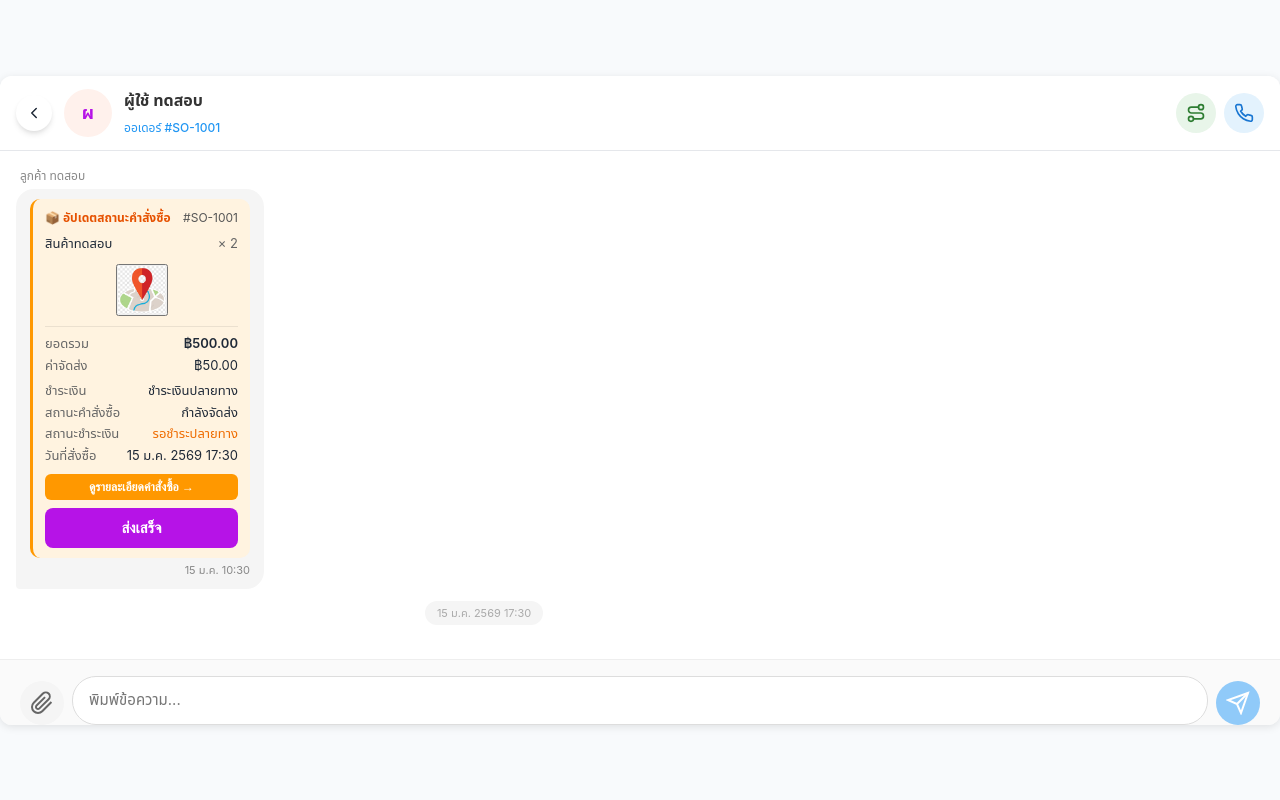
Test: ChatRoom - ส่งเสร็จออเดอร์ (สถานะชำระเงิน COD) › COD ส่งเสร็จสำเร็จ การ์ดทุกใบของ Order ID เดียวกันแสดง เก็บเงินแล้ว (pay-paid)
The image size is (1280, 800).
Check: the text "รอชำระปลายทาง" is shown, box 153,424 -> 238,444
Step 1. Click the button "ส่งเสร็จ" → point(142, 528), box 45,508 -> 238,548
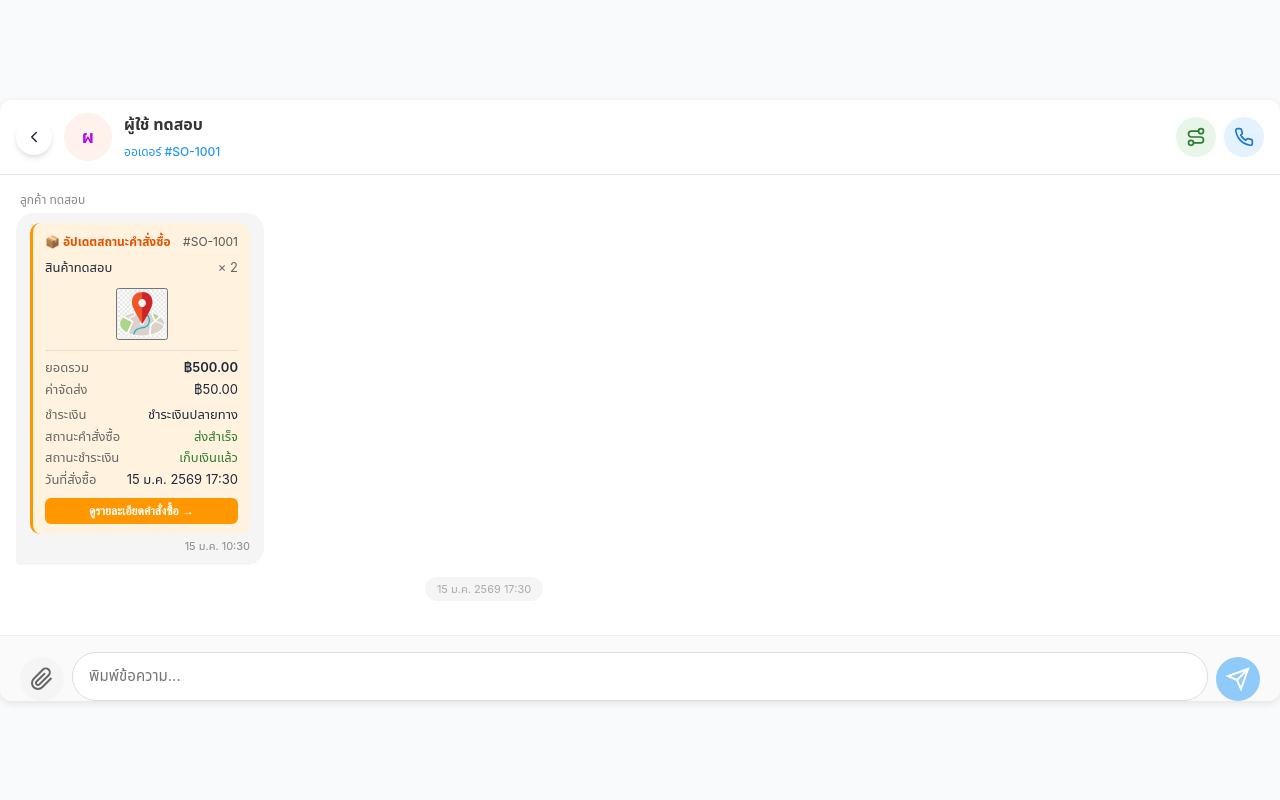
Check: the text "ส่งสำเร็จ" is shown, box 194,426 -> 238,446
